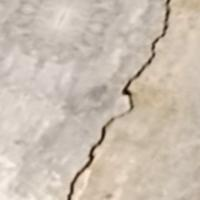crack: (65, 0, 172, 199)
